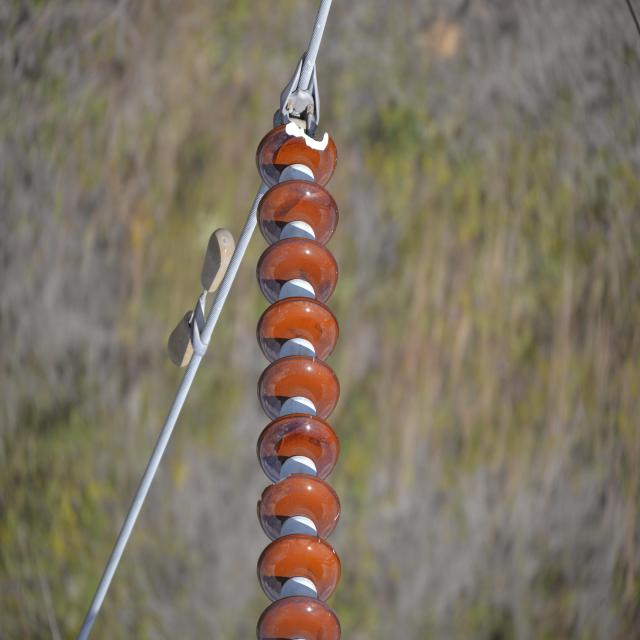broken: (257, 468, 295, 508), (285, 126, 332, 152)
insulator: (252, 122, 341, 640)
